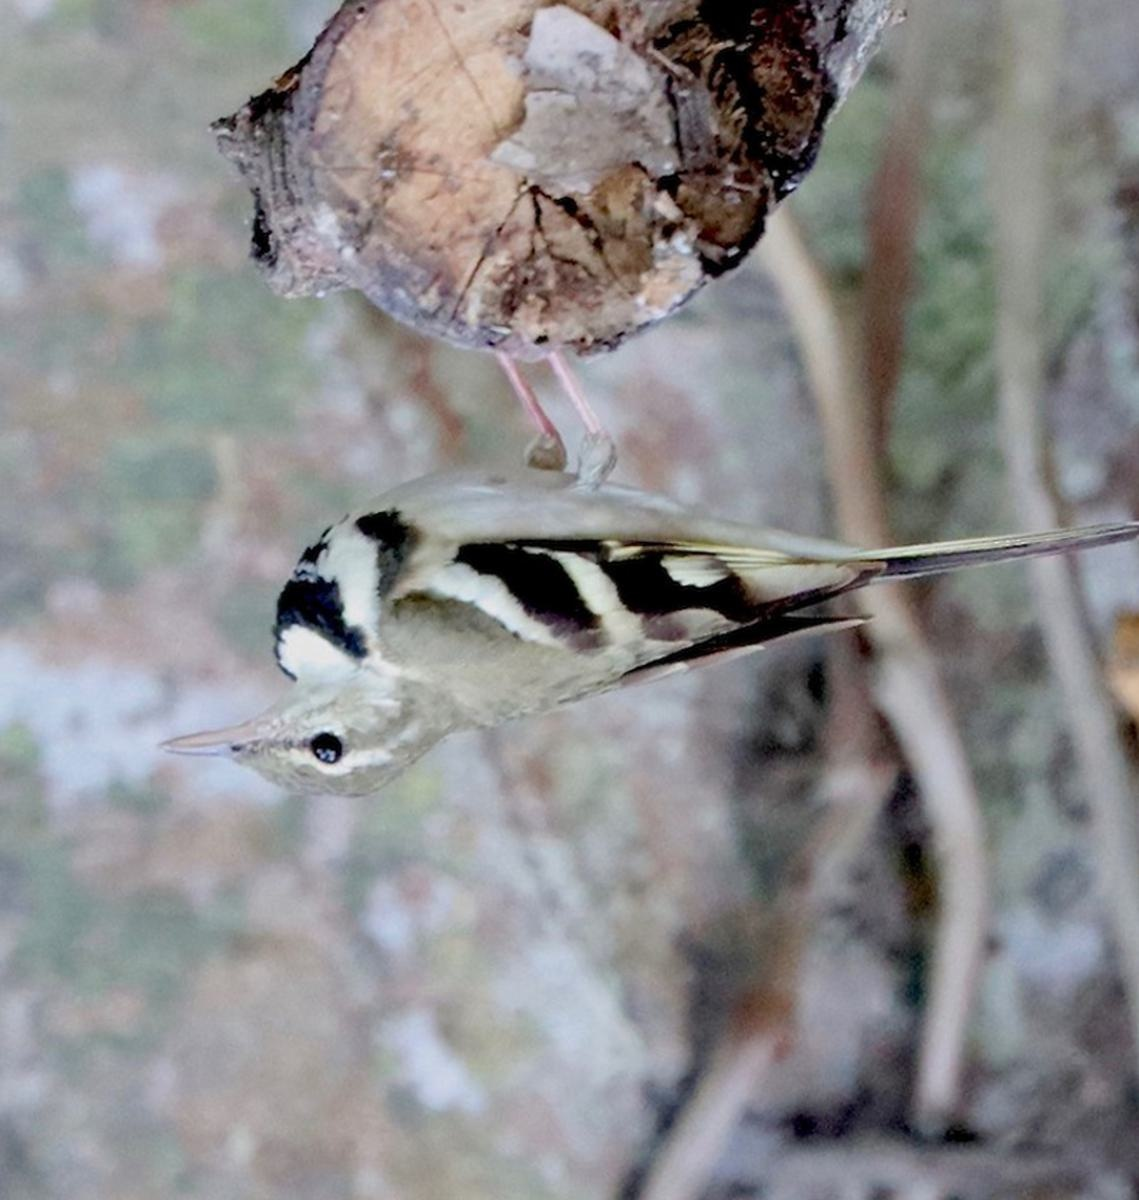wagtail: (182, 318, 1037, 804)
